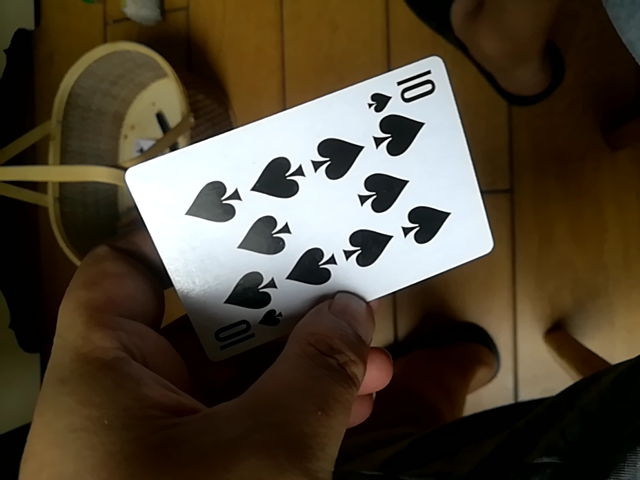ht 10: (124, 55, 495, 350)
